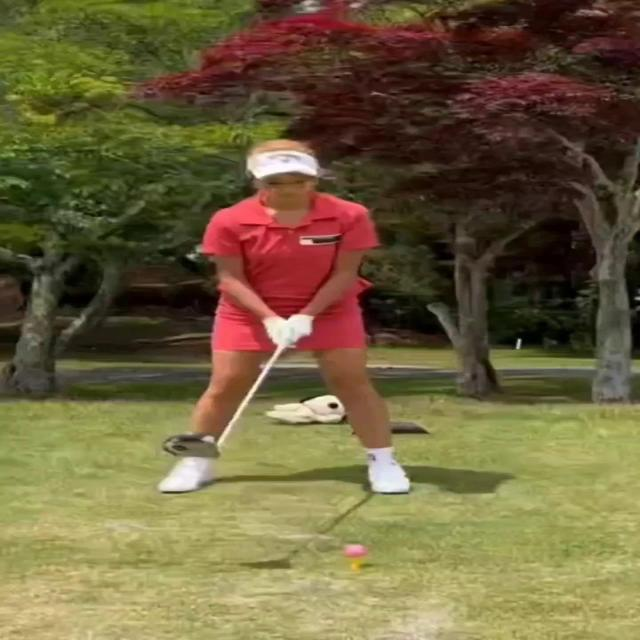ClubHead: (162, 432, 222, 459)
GolfBall: (344, 544, 368, 558)
